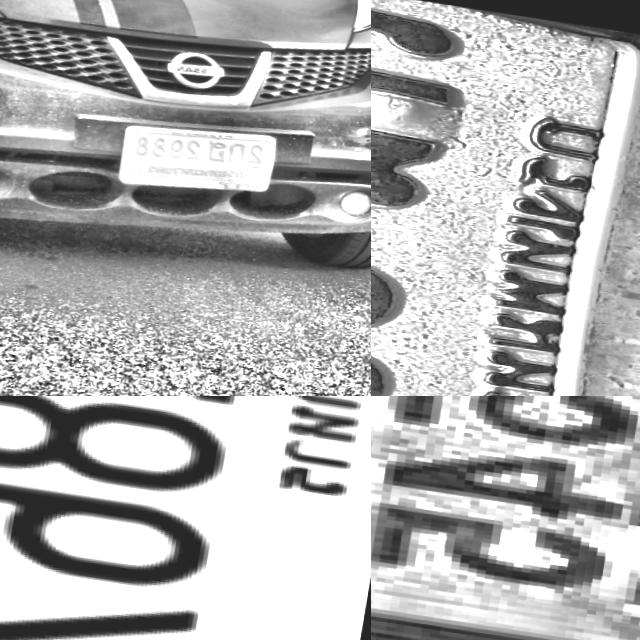license-plate: (371, 0, 640, 396), (0, 396, 371, 640), (371, 396, 640, 640), (216, 0, 330, 54)
